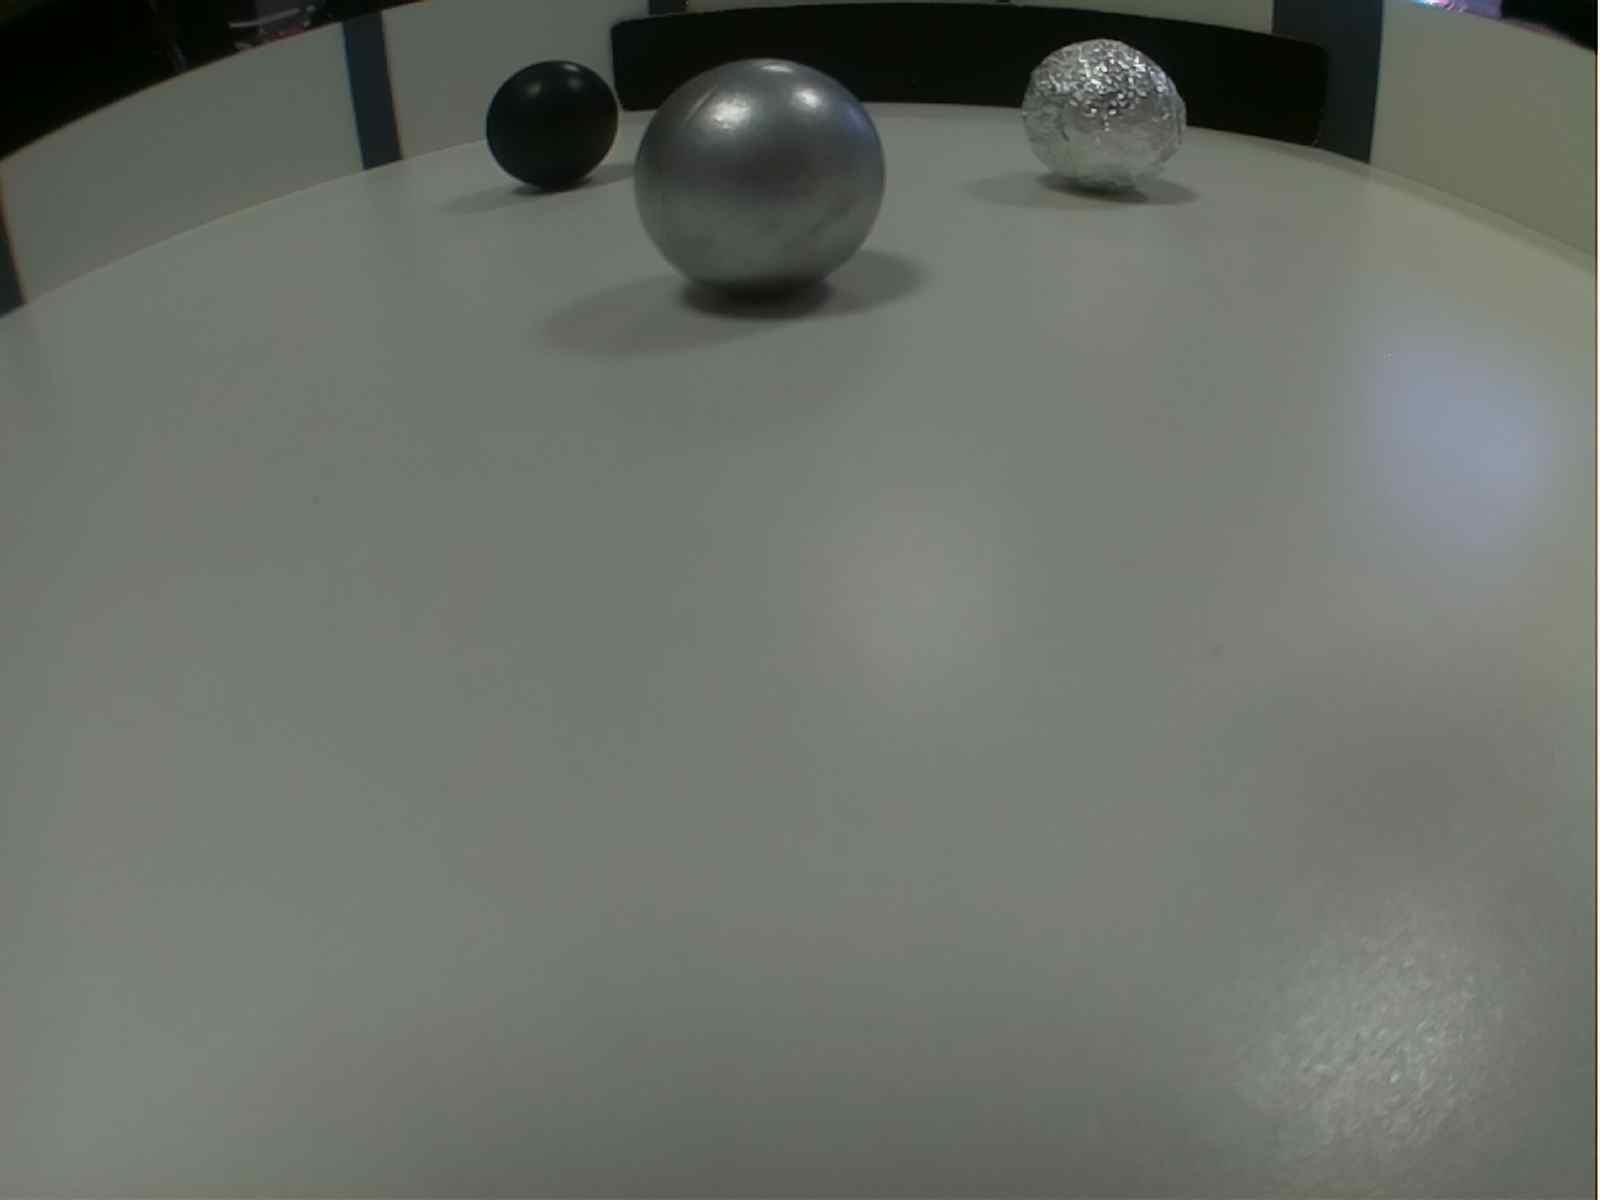bianca: (629, 54, 884, 309), (1020, 35, 1186, 200)
nera: (483, 57, 617, 192)
